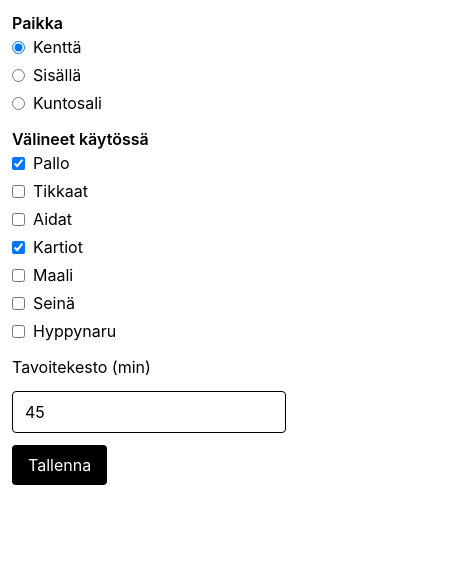
SessionSettingsForm › shows each refusal beside its field, keeping what was chosen
Click the radio button labelled "Kuntosali" at (18, 103), box [12, 96, 25, 110]
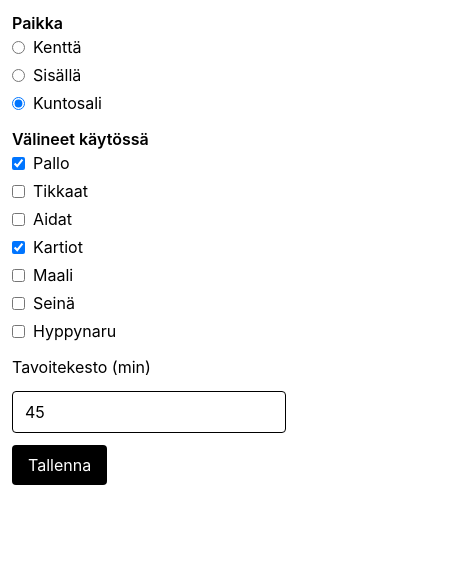
Click the checkbox labelled "Tikkaat" at (18, 191), box [12, 184, 25, 198]
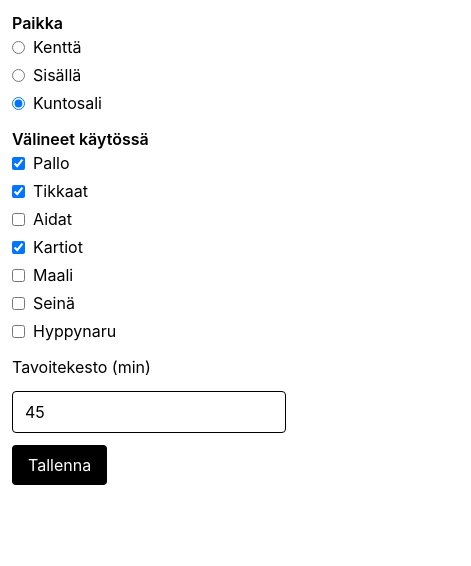
Replace the text in the field labelled "Tavoitekesto (min)" with "7" at (149, 412), box [12, 391, 286, 433]
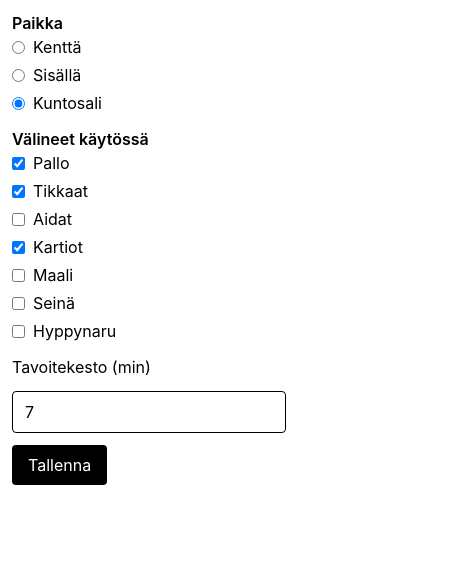
Click the button "Tallenna" at (60, 465), box [12, 445, 107, 485]
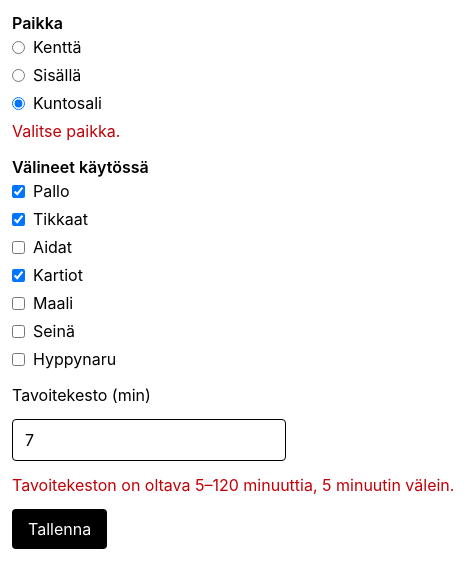
Check: the radio button labelled "Kuntosali" is checked, box [12, 96, 25, 110]
Check: the checkbox labelled "Tikkaat" is checked, box [12, 212, 25, 226]
Check: the messages read "Valitse paikka.", "Tavoitekeston on oltava 5–120 minuuttia, 5 minuutin välein.", in this order, box [12, 121, 120, 141]; [12, 475, 454, 495]
